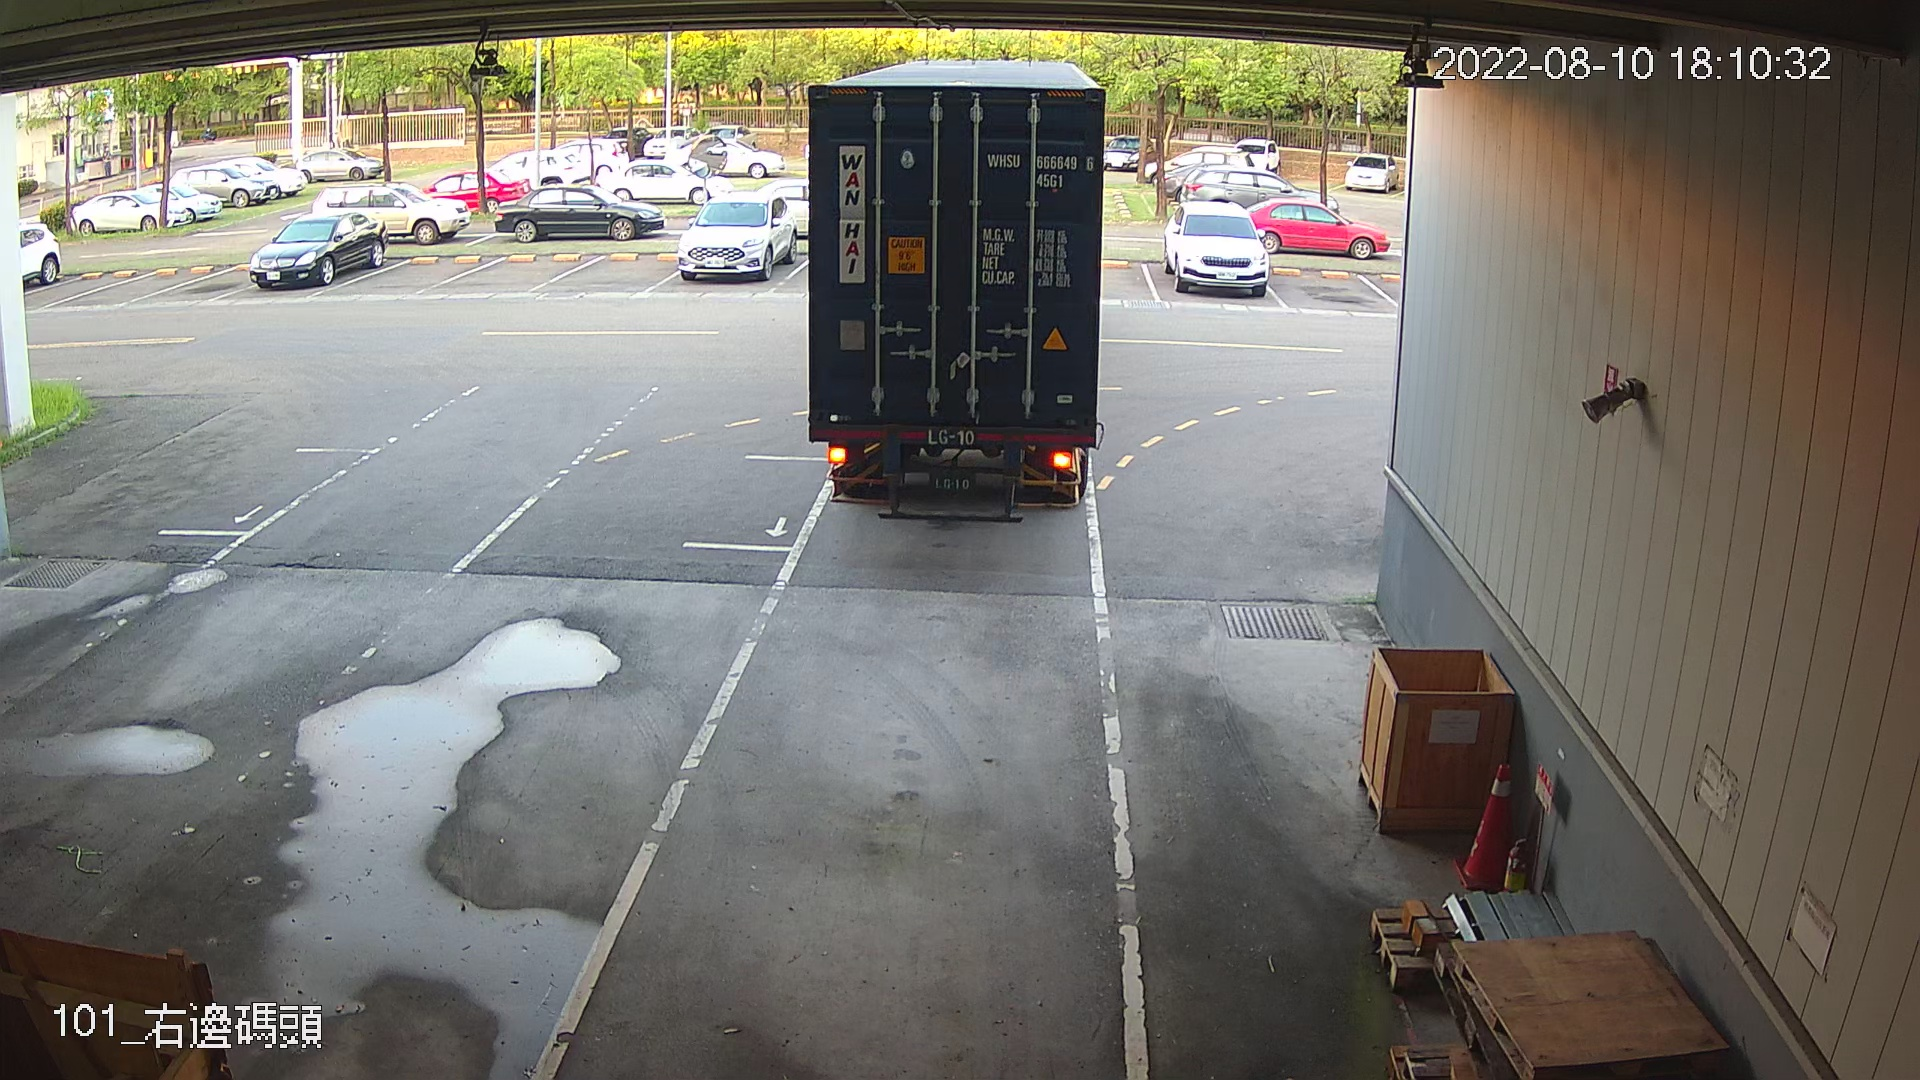container: (982, 145, 1098, 194)
